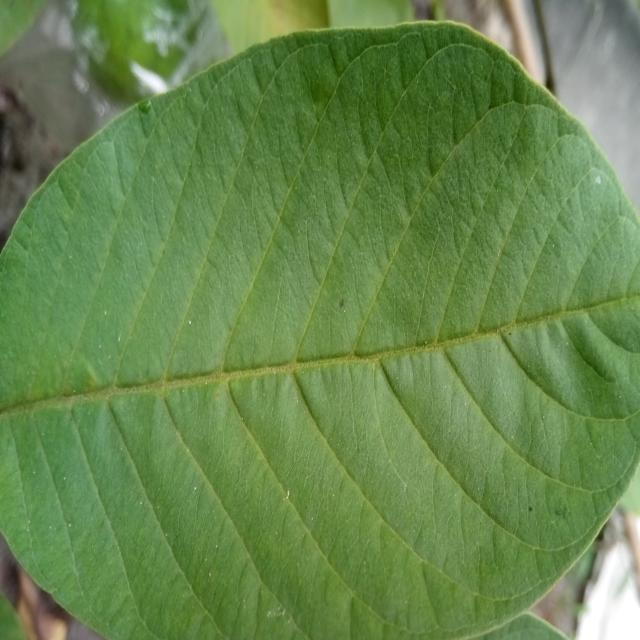Disease Free: (0, 22, 640, 638)
